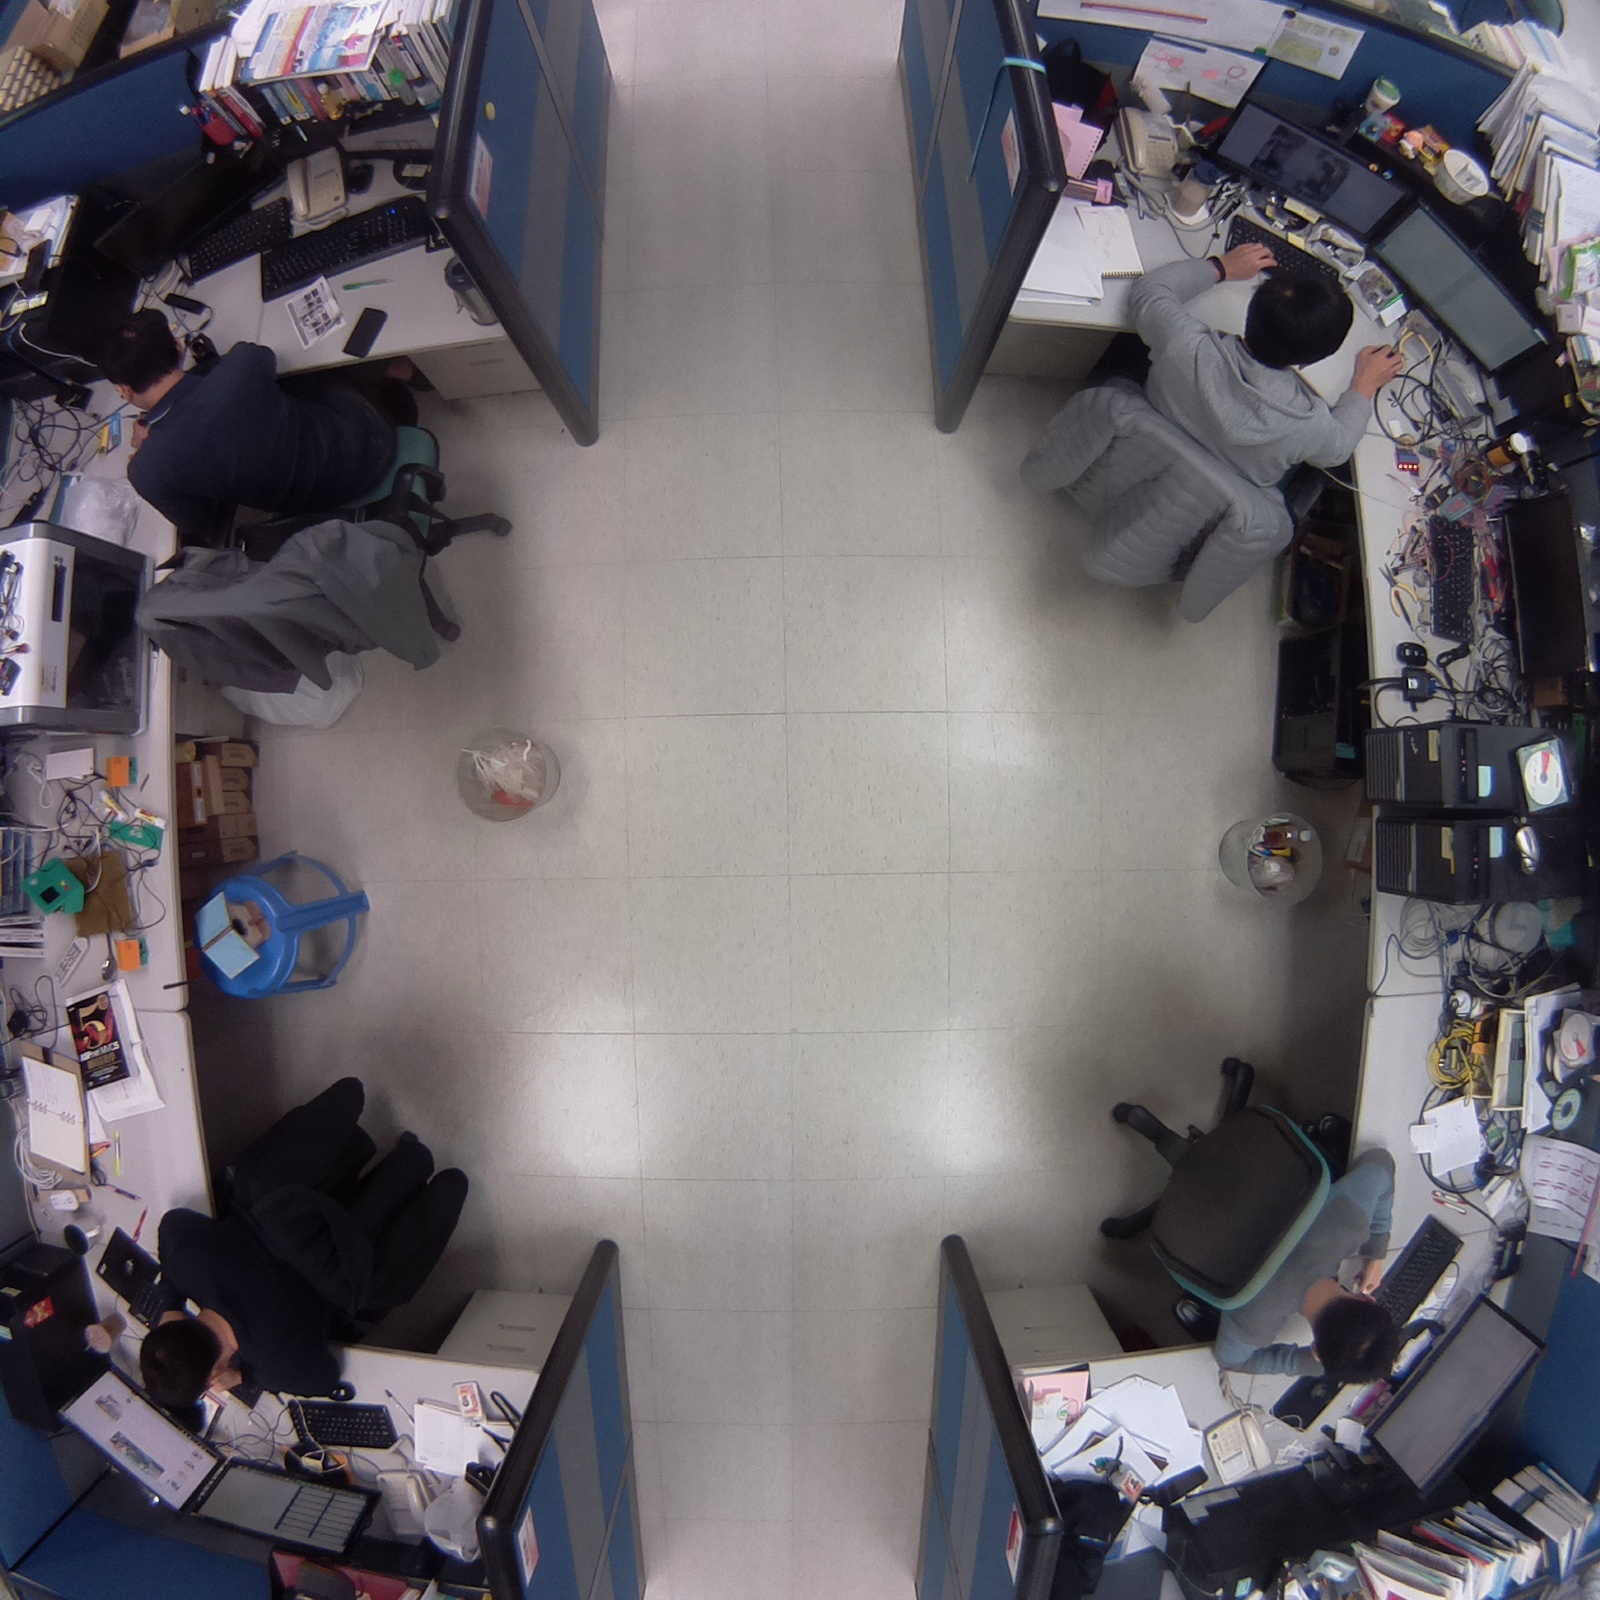head: (1242, 263, 1368, 374), (87, 302, 197, 410), (1304, 1280, 1404, 1393), (132, 1312, 238, 1412)
sitting: (70, 291, 537, 699), (999, 229, 1408, 647), (119, 1045, 486, 1418), (1078, 1037, 1417, 1400)
